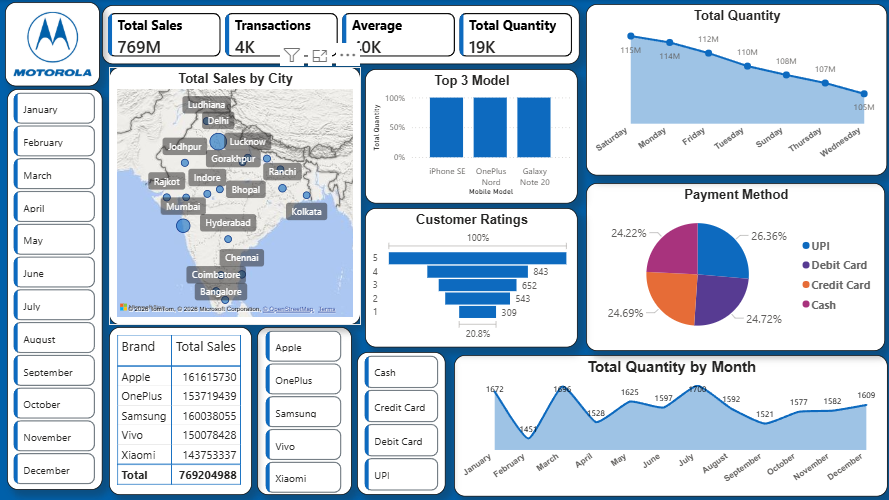

This screenshot's page, from the dashboard's own definition file:
{"tool":"powerbi","page":{"name":"Page 1","canvas":[1280,720],"ordinal":0},"visuals":[{"type":"shape","box":[146.7,6.7,685,85],"z":0},{"type":"shape","box":[368.5,468.6,136.5,241.1],"z":1000},{"type":"shape","box":[7.6,3,136.5,121.3],"z":2000},{"type":"image","box":[13.6,7.6,121.3,112.2],"z":3000},{"type":"shape","box":[9.6,127.4,137,575],"z":4000},{"type":"advancedSlicerVisual","fields":{"Values":["Mobile_Sales_Data.Date.Variation.Date Hierarchy.Month"]},"box":[14.3,127.4,127.4,575],"z":5000},{"type":"cardVisual","fields":{"Data":["Mobile_Sales_Data.Total Sales","Mobile_Sales_Data.Transactions","Mobile_Sales_Data.Average","Mobile_Sales_Data.Total Quantity"]},"box":[138,1.5,702.2,97.1],"z":6000},{"type":"lineChart","fields":{"Category":["Mobile_Sales_Data.Date.Variation.Date Hierarchy.Month","Mobile_Sales_Data.Date.Variation.Date Hierarchy.Day"],"Y":["Mobile_Sales_Data.Total Quantity"]},"box":[650.6,509.6,621.8,203.2],"z":7000},{"type":"pieChart","title":"Payment Method","fields":{"Category":["Mobile_Sales_Data.Payment Method"],"Y":["Mobile_Sales_Data.Transactions"]},"box":[840.2,262.4,429.2,241.1],"z":8000},{"type":"map","fields":{"Category":["Mobile_Sales_Data.City"],"Size":["Mobile_Sales_Data.Total Sales"]},"box":[156.2,95.5,360.9,370],"z":9000},{"type":"tableEx","fields":{"Values":["Mobile_Sales_Data.Brand","Mobile_Sales_Data.Total Sales"]},"box":[156.2,468.6,204.7,241.1],"z":10000},{"type":"advancedSlicerVisual","fields":{"Values":["Mobile_Sales_Data.Brand"]},"box":[376.1,468.6,119.8,244.2],"z":11000},{"type":"hundredPercentStackedColumnChart","title":"Top 3 Model","fields":{"Y":["Mobile_Sales_Data.Total Quantity"],"Category":["Mobile_Sales_Data.Mobile Model"]},"box":[523.2,98.6,304.8,192.6],"z":12000},{"type":"funnel","title":"Customer Ratings","fields":{"Y":["CountNonNull(Mobile_Sales_Data.Customer Ratings)"],"Category":["Mobile_Sales_Data.Customer Ratings"]},"box":[523.2,298.8,304.8,200.2],"z":13000},{"type":"areaChart","title":"Total Quantity","fields":{"Category":["Mobile_Sales_Data.Day Name"],"Y":["Mobile_Sales_Data.Total Sales"]},"box":[840.2,6.1,432.2,245.7],"z":14000},{"type":"shape","box":[512.6,505,127.4,204.7],"z":15000},{"type":"advancedSlicerVisual","fields":{"Values":["Mobile_Sales_Data.Payment Method"]},"box":[517.2,505,116.8,207.8],"z":16000}]}

Visuals, with their boxes in screenshot pixels (x1, y1, x2, y2), scaled from the page's 1280x720 canvas onto the 889x500 screenshot:
shape: l=102, t=5, r=578, b=64
shape: l=256, t=325, r=351, b=493
shape: l=5, t=2, r=100, b=86
image: l=9, t=5, r=94, b=83
shape: l=7, t=88, r=102, b=488
advancedSlicerVisual - Mobile_Sales_Data.Date.Variation.Date Hierarchy.Month: l=10, t=88, r=98, b=488
cardVisual - Mobile_Sales_Data.Total Sales x Mobile_Sales_Data.Transactions: l=96, t=1, r=584, b=68
lineChart - Mobile_Sales_Data.Date.Variation.Date Hierarchy.Month x Mobile_Sales_Data.Date.Variation.Date Hierarchy.Day: l=452, t=354, r=884, b=495
"Payment Method" pieChart: l=584, t=182, r=882, b=350
map - Mobile_Sales_Data.City x Mobile_Sales_Data.Total Sales: l=108, t=66, r=359, b=323
tableEx - Mobile_Sales_Data.Brand x Mobile_Sales_Data.Total Sales: l=108, t=325, r=251, b=493
advancedSlicerVisual - Mobile_Sales_Data.Brand: l=261, t=325, r=344, b=495
"Top 3 Model" hundredPercentStackedColumnChart: l=363, t=68, r=575, b=202
"Customer Ratings" funnel: l=363, t=208, r=575, b=347
"Total Quantity" areaChart: l=584, t=4, r=884, b=175
shape: l=356, t=351, r=444, b=493
advancedSlicerVisual - Mobile_Sales_Data.Payment Method: l=359, t=351, r=440, b=495
